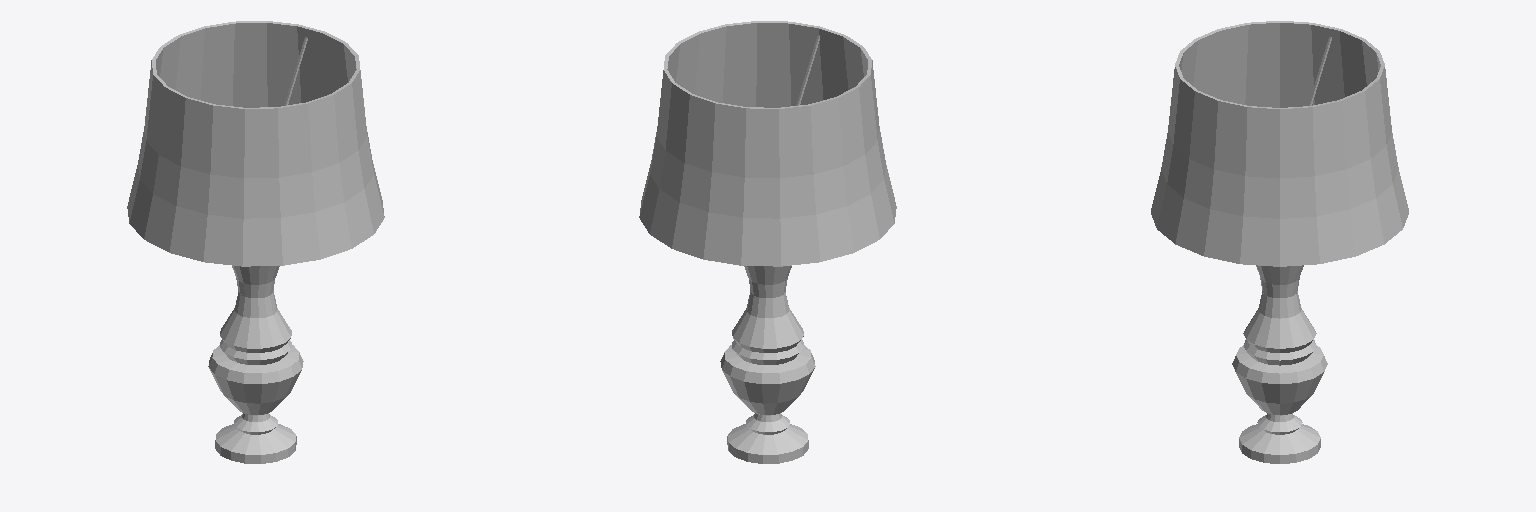
The model's file is eb_lamp_01.obj.
3 views of the same model, side by side, from view 1: azimuth 30°, elevation 25°; view 2: azimuth 150°, elevation 25°; view 3: azimuth 270°, elevation 25° (orthographic).
Parts seen in each view (by area): view 1: eb_lamp_01_low_c_low, eb_lamp_01_low_b_low; view 2: eb_lamp_01_low_c_low, eb_lamp_01_low_b_low; view 3: eb_lamp_01_low_c_low, eb_lamp_01_low_b_low.
Part boxes in pixels (bbox=[...]): eb_lamp_01_low_c_low: bbox=[127, 21, 384, 266]; eb_lamp_01_low_b_low: bbox=[208, 266, 303, 463]; eb_lamp_01_low_c_low: bbox=[639, 21, 896, 266]; eb_lamp_01_low_b_low: bbox=[720, 266, 815, 463]; eb_lamp_01_low_c_low: bbox=[1151, 21, 1408, 266]; eb_lamp_01_low_b_low: bbox=[1232, 265, 1327, 463].
Size of the model in its own units: 47.81 by 77.83 by 47.81.